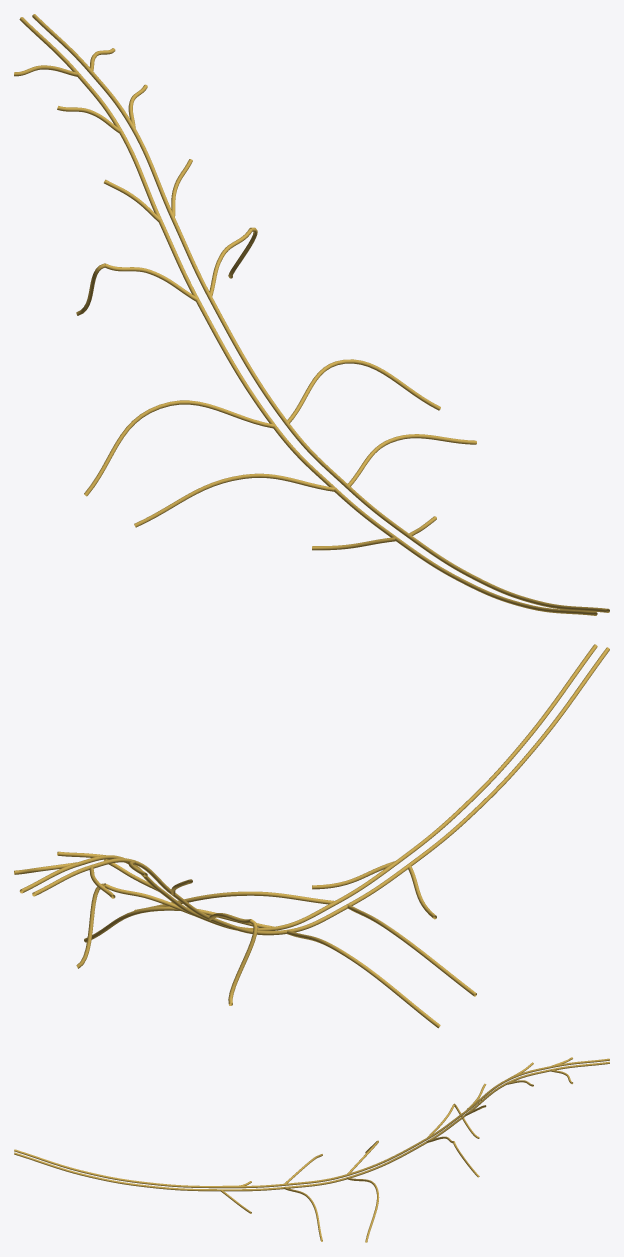
3 views of the same model, one above another, from view 1: azimuth 30°, elevation 25°; view 2: azimuth 150°, elevation 25°; view 3: azimuth 270°, elevation 25° (orthographic). The views are drawn at different scales.
Visible parts, largest first — view 1: 马尾; view 2: 马尾; view 3: 马尾.
Boxes of the visible parts, left/top/right/bottom form: 马尾: left=14, top=14, right=609, bottom=615; 马尾: left=14, top=644, right=609, bottom=1028; 马尾: left=14, top=1057, right=609, bottom=1242.
Bounding box in the file's own units: 0.1418 × 0.1017 × 0.3962.
